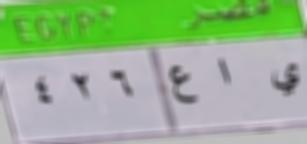2: (66, 69, 95, 104)
4: (30, 71, 57, 107)
6: (108, 66, 140, 100)
ain: (165, 62, 200, 107)
alif: (208, 55, 236, 87)
yaa: (264, 61, 300, 99)
